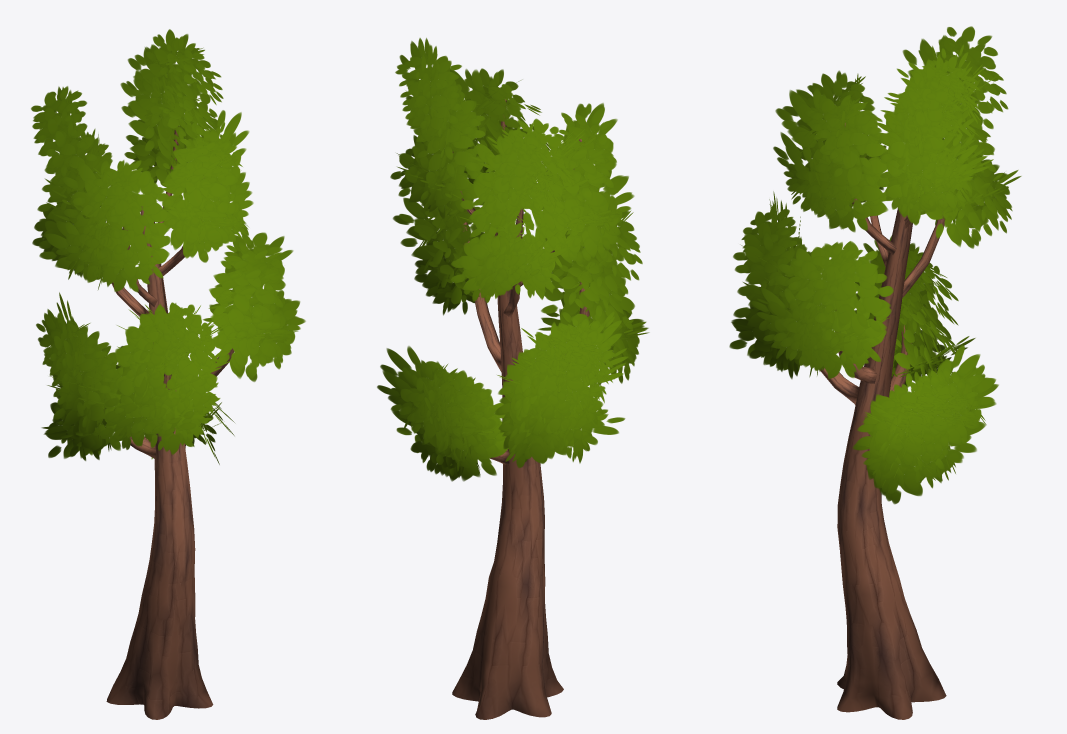
The model's file is tree-oak-1.glb.
The picture shows the model from 3 angles, left to right: view 1: azimuth 30°, elevation 25°; view 2: azimuth 150°, elevation 25°; view 3: azimuth 270°, elevation 25°; orthographic projection. The views are drawn at different scales.
Visible parts, largest first — view 1: CommonTree_3; view 2: CommonTree_3; view 3: CommonTree_3.
Boxes of the visible parts, x1=… form: CommonTree_3: x1=31, y1=29, x2=305, y2=719; CommonTree_3: x1=377, y1=38, x2=649, y2=719; CommonTree_3: x1=729, y1=26, x2=1021, y2=719.
Size of the model in its own units: 4.06 by 9.43 by 4.24.
Materials: 2 (2 with a texture image).
